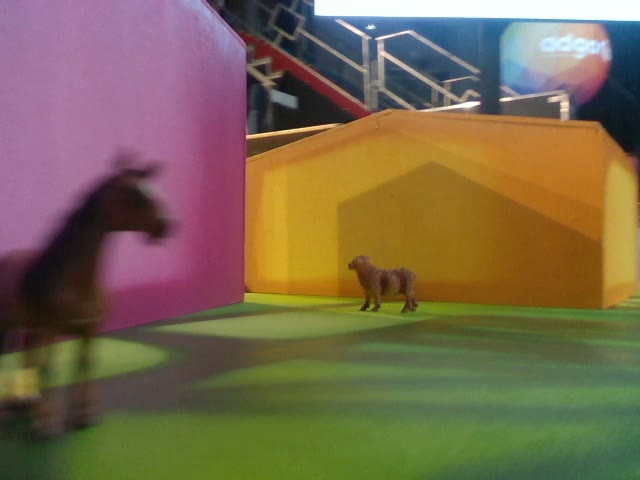toy: (346, 255, 419, 312)
